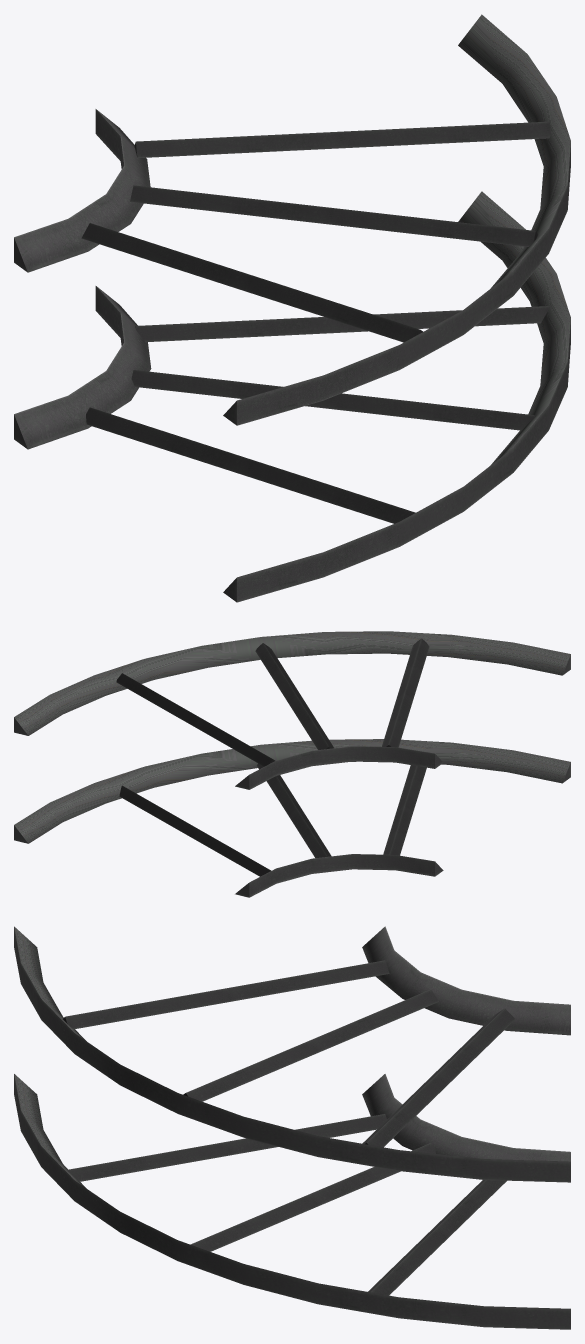
Rendered from p6_wire_trellis_90_bend_lod1.glb.
The picture shows the model from 3 angles, top to bottom: view 1: azimuth 30°, elevation 25°; view 2: azimuth 150°, elevation 25°; view 3: azimuth 270°, elevation 25°; orthographic projection. The views are drawn at different scales.
Parts seen in each view (by area): view 1: surf0; view 2: surf0; view 3: surf0.
Boxes of the visible parts, box(x1,y1,x2,y2) form: surf0: box(14, 14, 570, 602); surf0: box(14, 631, 570, 897); surf0: box(14, 926, 570, 1329).
Bounding box in the file's own units: 48 × 16 × 48.
